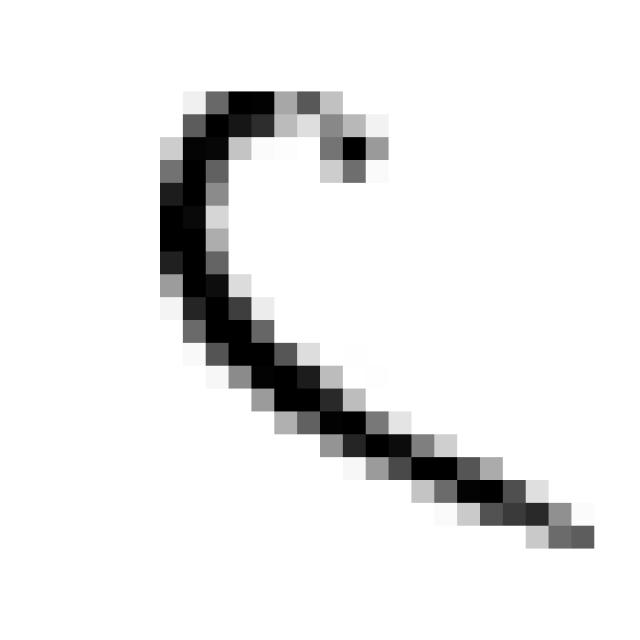2 -two-: (133, 64, 612, 569)
